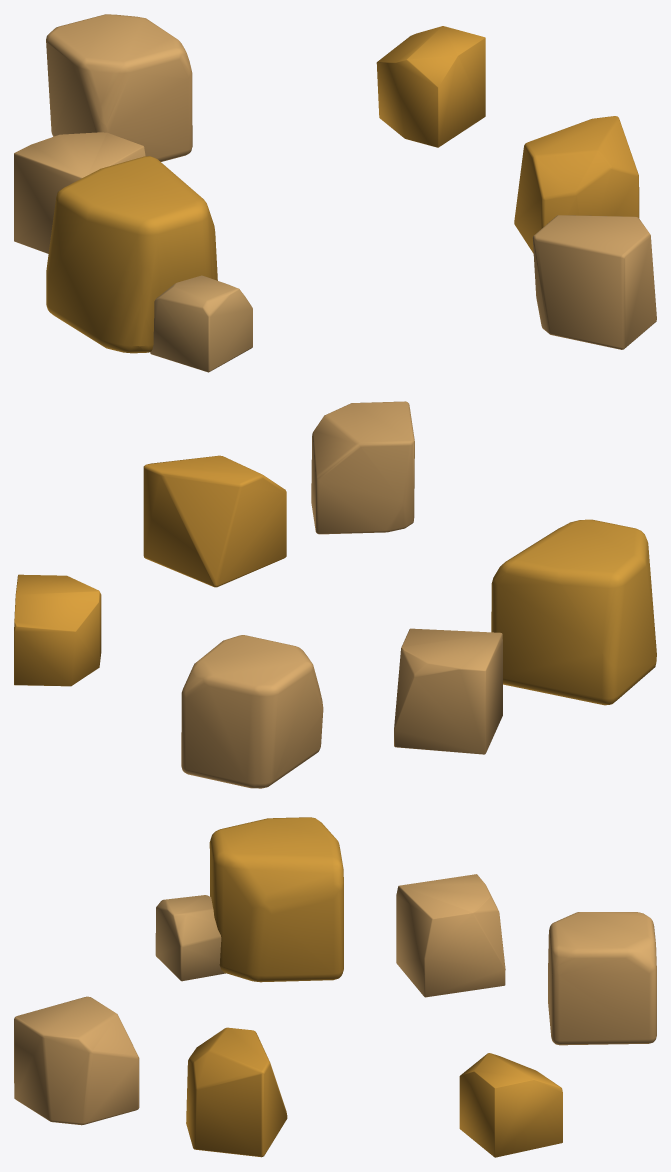
File: den_gc_crumbs.glb
3 renders of one model, top to bottom at view 1: azimuth 30°, elevation 25°; view 2: azimuth 150°, elevation 25°; view 3: azimuth 270°, elevation 25°, orthographic. The views are drawn at different scales.
Parts seen in each view (by area): view 1: den_gc_crumbs; view 2: den_gc_crumbs; view 3: den_gc_crumbs.
Part boxes in pixels (x1,y1,x2,y2): den_gc_crumbs: (14, 14, 656, 372); den_gc_crumbs: (14, 401, 656, 788); den_gc_crumbs: (14, 817, 656, 1157).
Size of the model in its own units: 1.56 by 0.3716 by 1.86.
